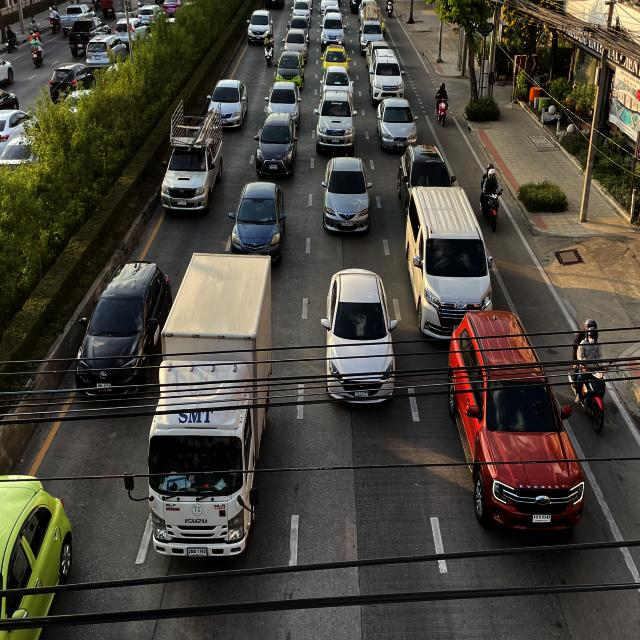bike: (568, 315, 612, 439), (478, 158, 504, 233), (434, 80, 452, 128), (263, 30, 275, 66)
car: (446, 307, 588, 538), (404, 184, 496, 346), (74, 255, 172, 406), (320, 266, 398, 411), (226, 179, 288, 267), (396, 142, 458, 225), (319, 154, 374, 236), (253, 112, 300, 177), (375, 97, 419, 151), (206, 77, 249, 130), (264, 81, 303, 130)
truck: (122, 253, 274, 559), (160, 98, 225, 216), (314, 81, 358, 156)
